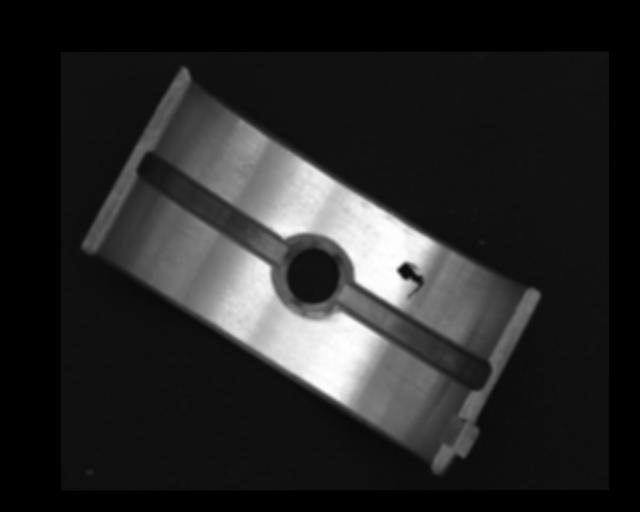blot: (395, 261, 424, 300)
gap: (137, 154, 288, 264), (340, 284, 488, 391)
hole: (282, 242, 347, 313)
